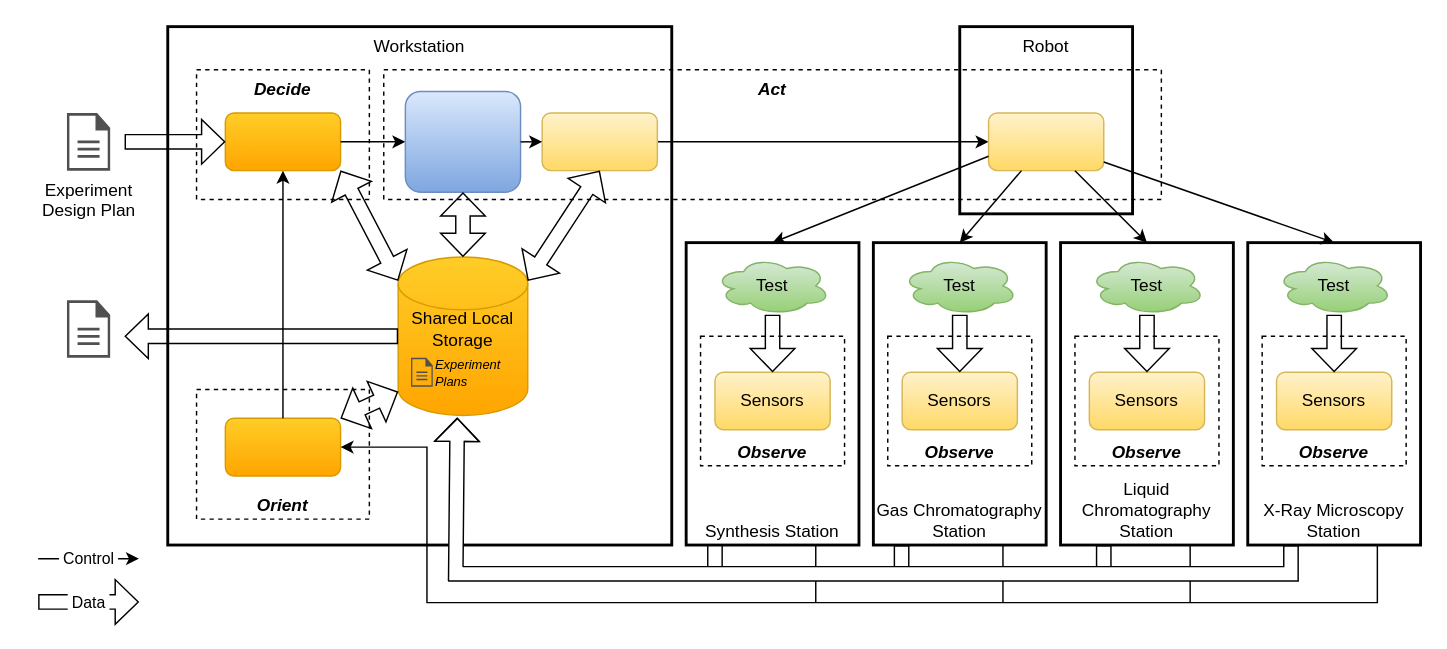
Image size: 1447x649. Some labels were removed from this diagram. Each missing label, with the centre of its shape:
"Actuators" belongs at point 1045,141.
"Analyser" belongs at point 282,446.
"Controllers 1-4" belongs at point 599,141.
"Multi- Experiment Workflow Controller" belongs at point 462,141.
"Planner" belongs at point 282,141.
"Raw Experiment Result" belongs at point 87,328.
